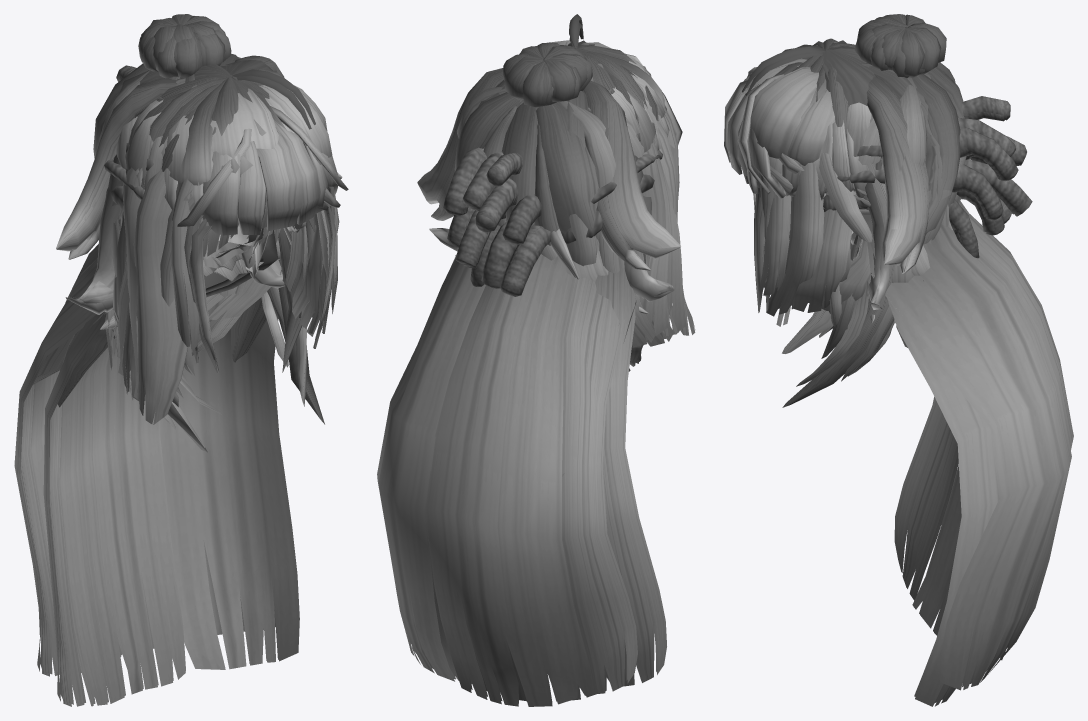
The model's file is PERSONAJES_FIN.fbx_CABELLO.fbx.
3 views of the same model, side by side, from view 1: azimuth 30°, elevation 25°; view 2: azimuth 150°, elevation 25°; view 3: azimuth 270°, elevation 25° (orthographic). The views are drawn at different scales.
Parts seen in each view (by area): view 1: FRR_F_05, FRR_F_08, FRR_F_04, FRR_M_05, FRR_M_07, FRR_M_03, FRR_M_01, FRR_F_03, FRR_M_08, FRR_F_01, FRR_M_04, FRR_F_07 (+3 smaller); view 2: FRR_M_05, FRR_F_03, FRR_F_05, FRR_F_06, FRR_M_04, FRR_F_04, FRR_F_08, FRR_M_08, FRR_M_07, FRR_M_03, FRR_M_06; view 3: FRR_M_05, FRR_F_05, FRR_F_08, FRR_F_04, FRR_F_03, FRR_F_06, FRR_M_07, FRR_M_04, FRR_F_01, FRR_M_03, FRR_F_02, FRR_M_01 (+2 smaller).
Part boxes in pixels (box(x1,y1,x2,y2)): FRR_F_05: box(43, 60, 315, 706); FRR_F_08: box(112, 167, 339, 424); FRR_F_04: box(57, 55, 342, 327); FRR_M_05: box(14, 60, 311, 676); FRR_M_07: box(113, 189, 324, 452); FRR_M_03: box(108, 29, 336, 372); FRR_M_01: box(205, 156, 328, 235); FRR_F_03: box(93, 14, 334, 363); FRR_M_08: box(105, 210, 329, 401); FRR_F_01: box(135, 78, 320, 268); FRR_M_04: box(56, 53, 340, 329); FRR_F_07: box(130, 272, 287, 400); FRR_M_05: box(377, 22, 637, 706); FRR_F_03: box(454, 43, 649, 245); FRR_F_05: box(428, 14, 666, 701); FRR_F_06: box(443, 122, 662, 296); FRR_M_04: box(417, 42, 680, 313); FRR_F_04: box(431, 40, 672, 298); FRR_F_08: box(597, 107, 695, 347); FRR_M_08: box(457, 247, 679, 347); FRR_M_07: box(598, 144, 676, 371); FRR_M_03: box(535, 42, 644, 239); FRR_M_06: box(462, 154, 540, 282); FRR_M_05: box(746, 52, 1073, 690); FRR_F_05: box(742, 38, 999, 706); FRR_F_08: box(759, 152, 949, 316); FRR_F_04: box(746, 42, 938, 322); FRR_F_03: box(756, 14, 970, 310); FRR_F_06: box(823, 96, 1032, 258); FRR_M_07: box(770, 153, 931, 407); FRR_M_04: box(797, 59, 951, 322); FRR_F_01: box(726, 76, 881, 205); FRR_M_03: box(753, 16, 931, 312); FRR_F_02: box(737, 79, 868, 209); FRR_M_01: box(724, 78, 759, 187).
Size of the model in its own units: 29.02 by 66.48 by 32.81.
